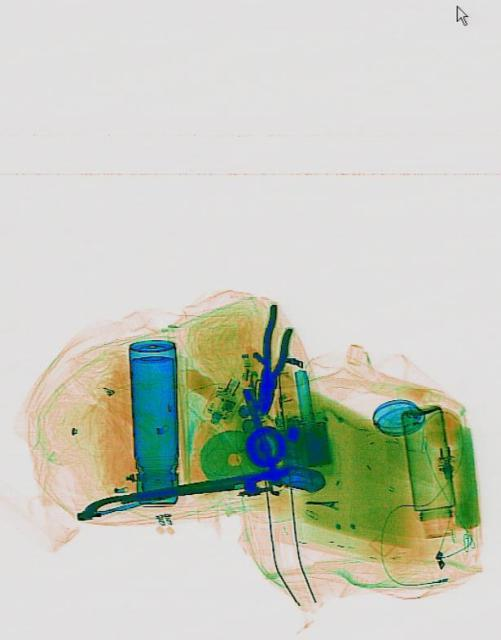Pliers: (249, 302, 296, 416)
